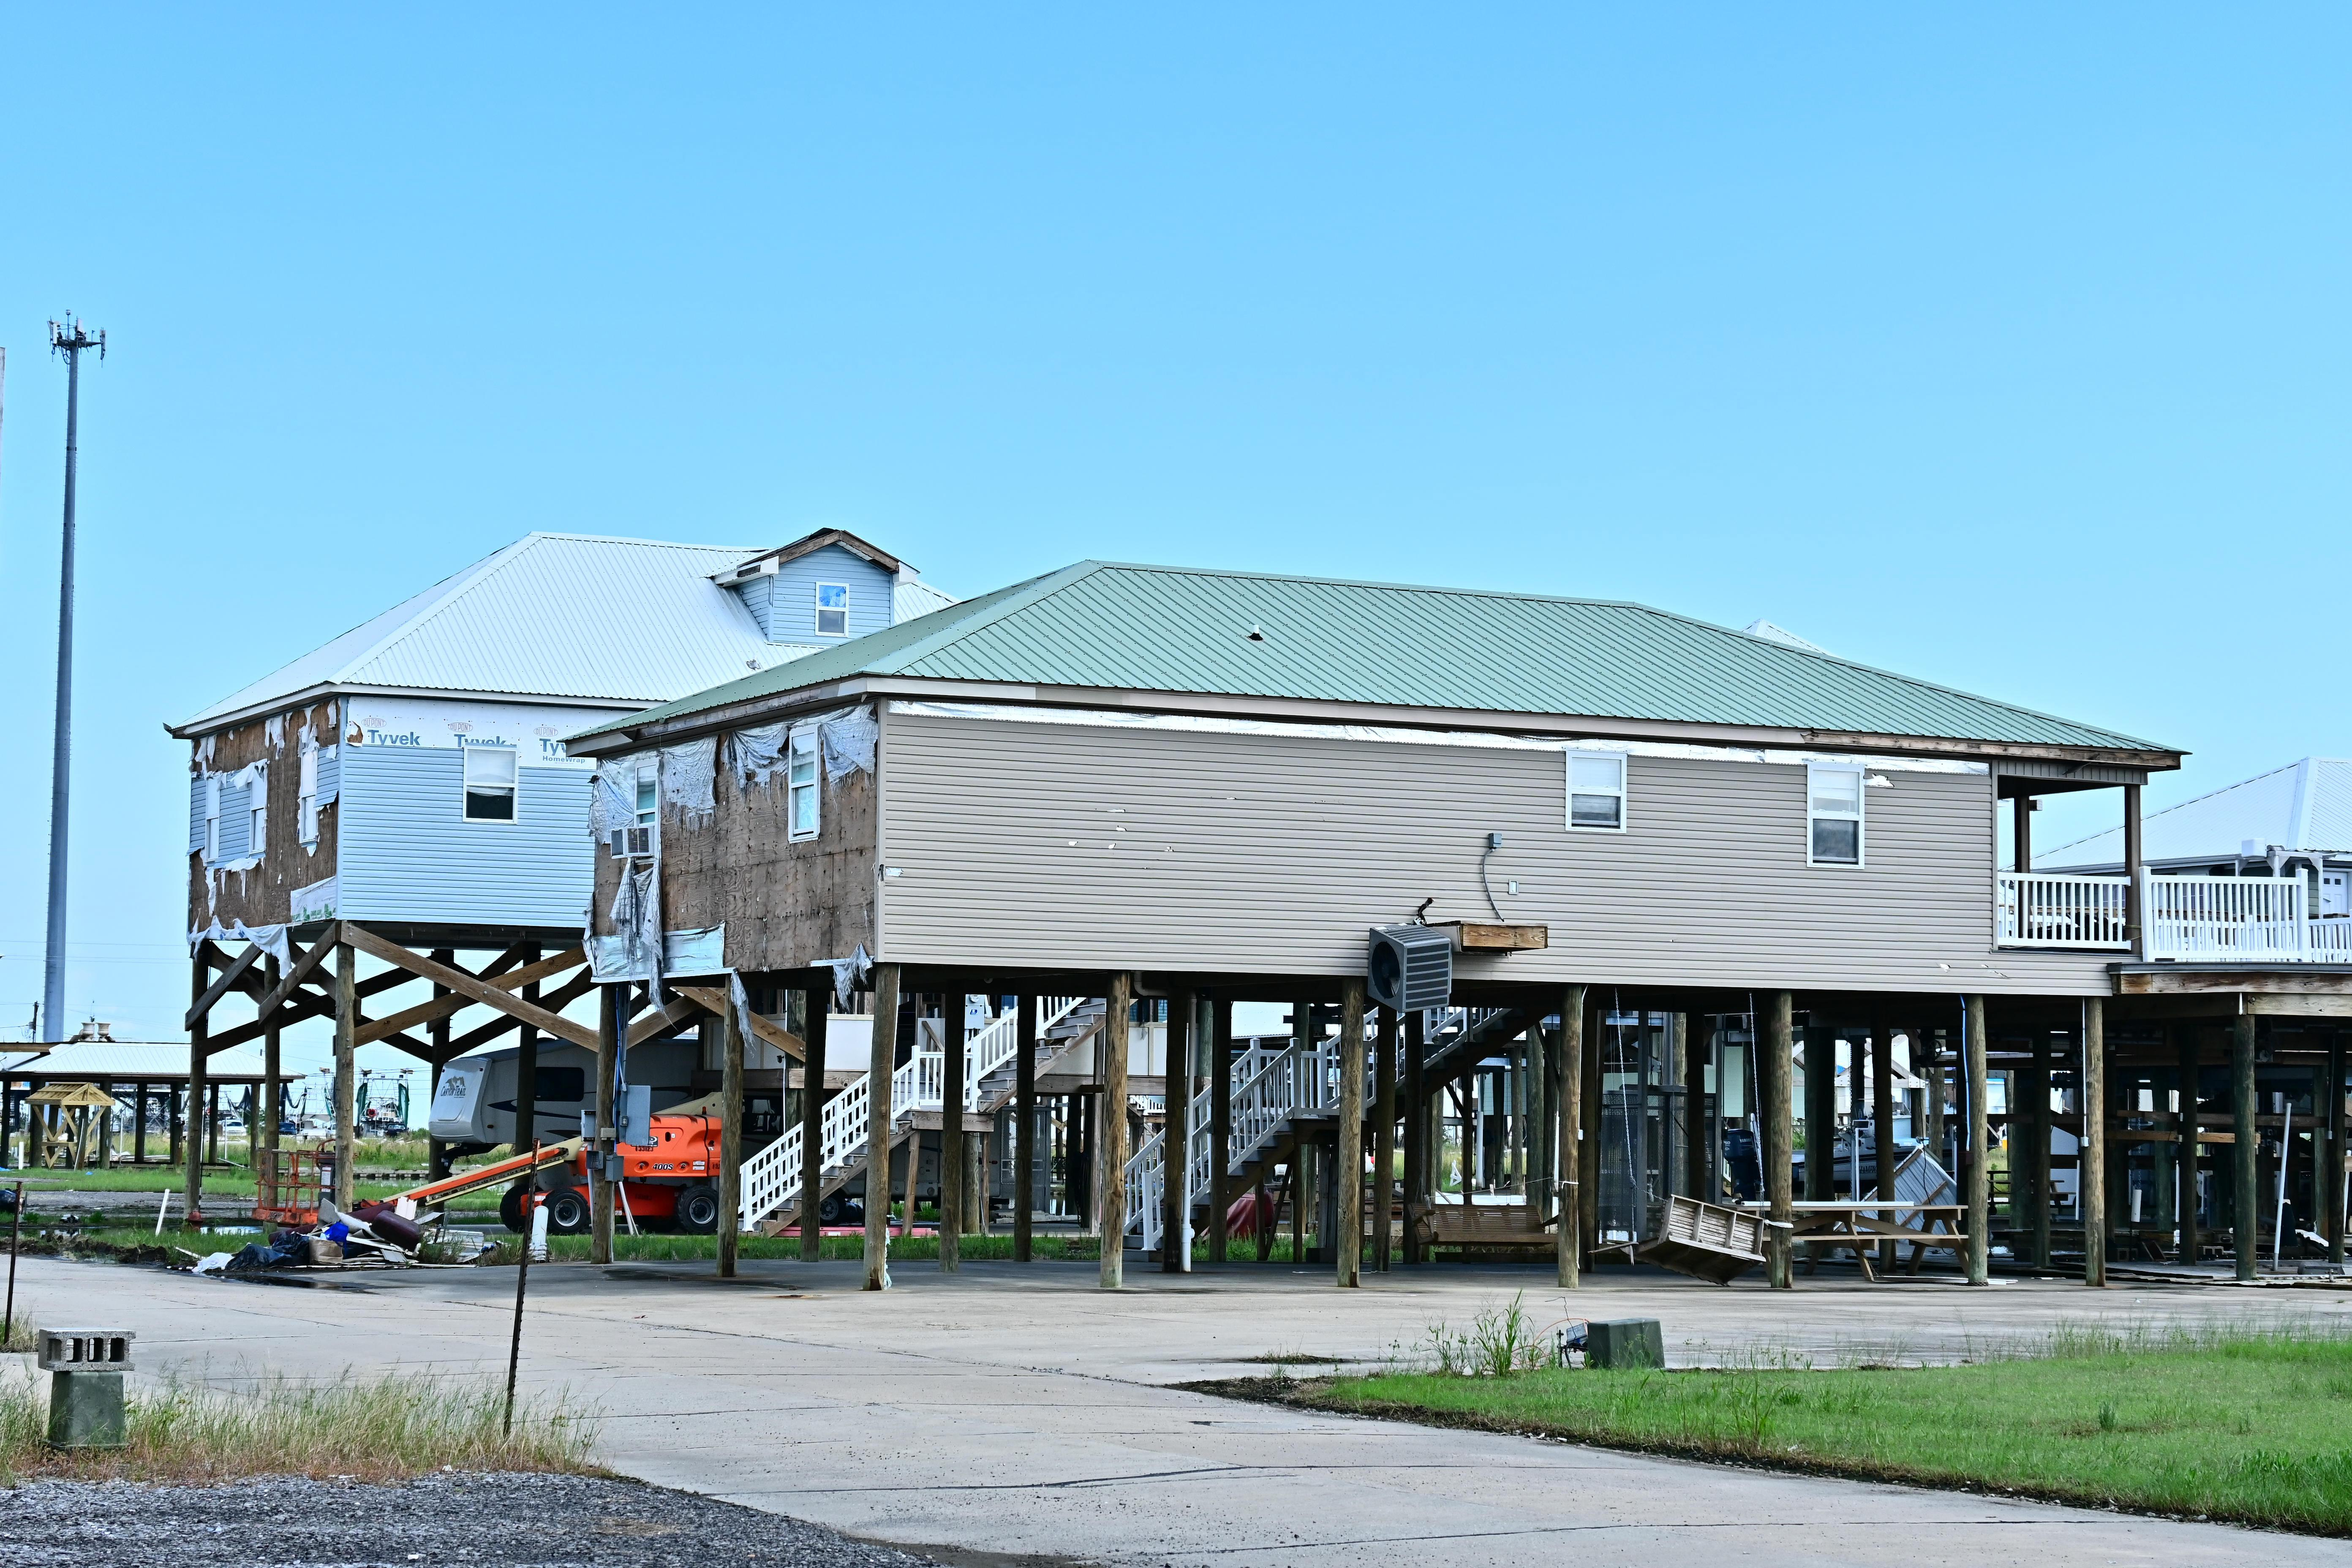minor: (576, 490, 2247, 1319), (170, 499, 1017, 1227)
